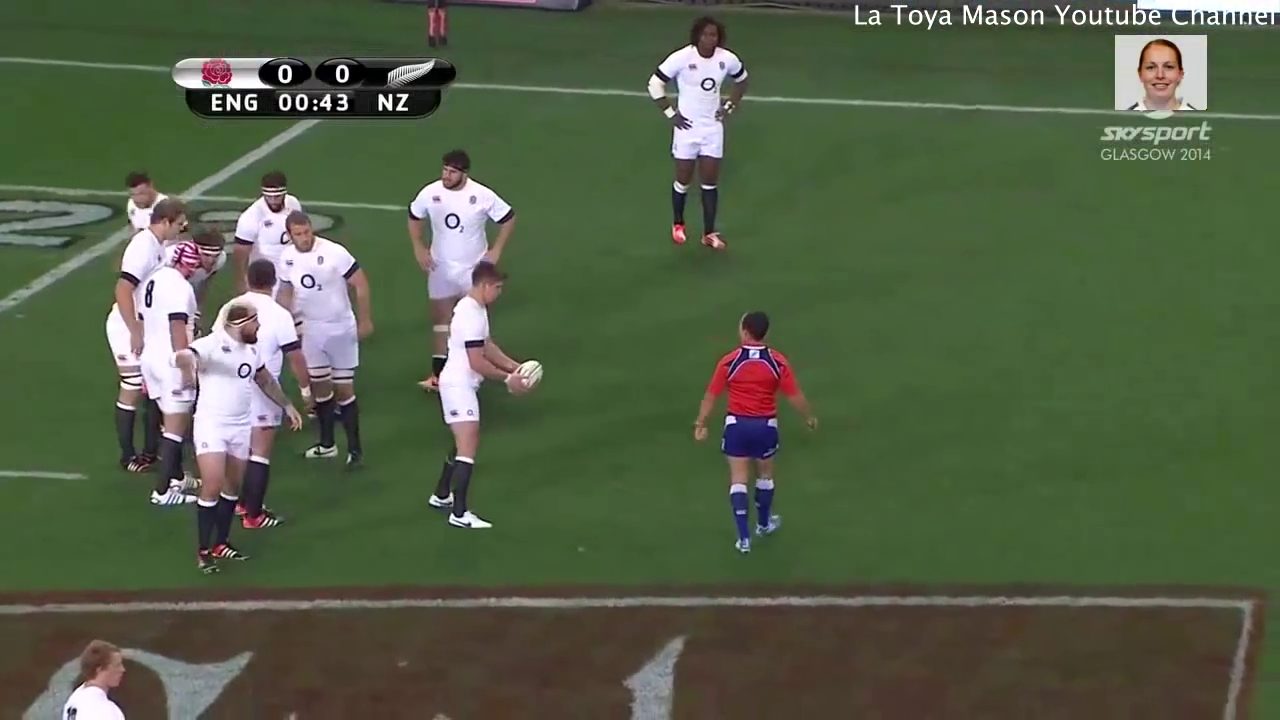ball: (497, 349, 553, 403)
player: (173, 297, 305, 593), (686, 304, 827, 562), (411, 255, 538, 538), (265, 208, 381, 481), (397, 145, 520, 402), (640, 4, 752, 259), (101, 176, 189, 478), (133, 236, 212, 524), (210, 248, 326, 437), (226, 163, 307, 313)
